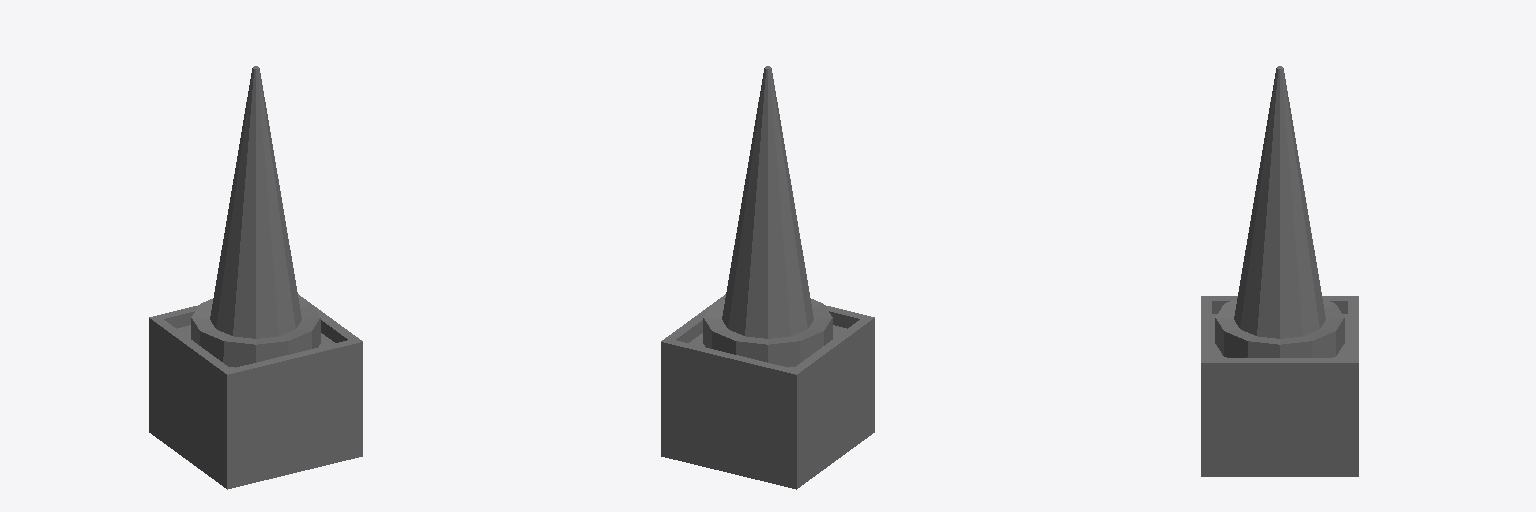
File: spire.obj
The picture shows the model from 3 angles: view 1: azimuth 30°, elevation 25°; view 2: azimuth 150°, elevation 25°; view 3: azimuth 270°, elevation 25°; orthographic projection.
Visible parts, largest first — view 1: spire:pCylinder2; view 2: spire:pCylinder2; view 3: spire:pCylinder2.
Part boxes in pixels (bbox=[...]): spire:pCylinder2: bbox=[149, 66, 362, 489]; spire:pCylinder2: bbox=[661, 66, 874, 489]; spire:pCylinder2: bbox=[1201, 66, 1358, 476].
Bounding box in the file's own units: 0.7083 × 1.87 × 0.7083.